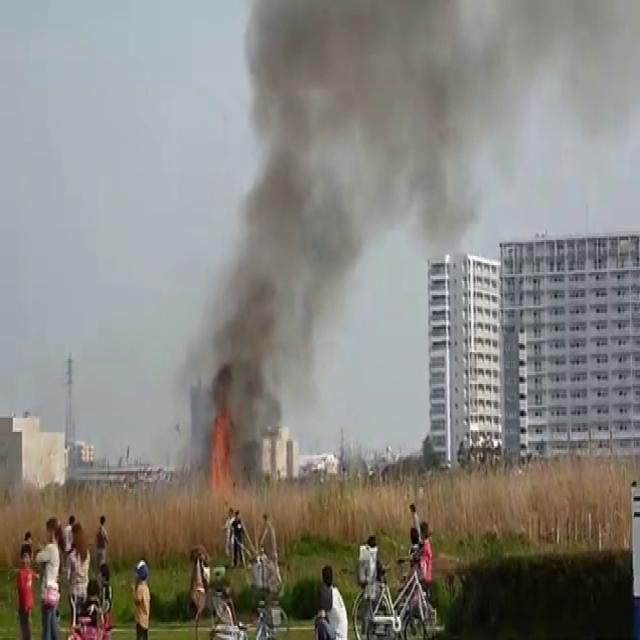Fire: (200, 408, 237, 487)
Smoke: (180, 0, 512, 480)
